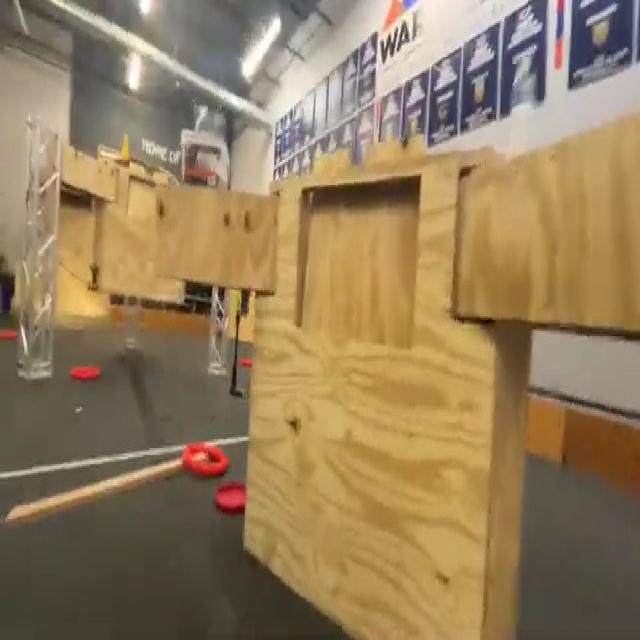note: (179, 443, 230, 478), (70, 359, 102, 383), (0, 331, 18, 340)
